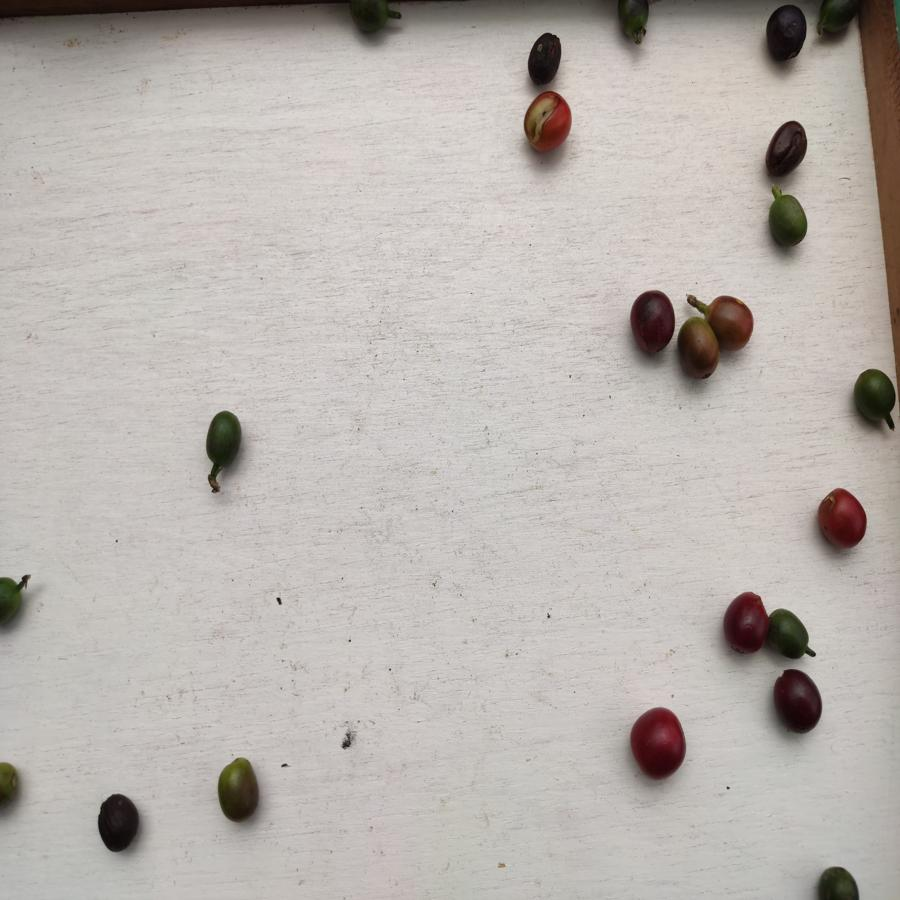Inmaduro: (203, 408, 245, 471), (853, 366, 896, 426), (764, 192, 809, 248), (767, 607, 810, 659), (345, 1, 404, 36), (1, 572, 29, 630), (816, 1, 858, 39), (817, 864, 860, 900), (619, 1, 651, 49)
Maduro: (632, 705, 690, 780), (815, 487, 870, 550), (522, 88, 573, 152)
Pinton: (213, 758, 265, 825), (676, 315, 724, 383), (706, 290, 754, 349)
Sobremaduro: (774, 666, 823, 738), (722, 591, 770, 663), (760, 116, 811, 180), (631, 285, 673, 361), (764, 3, 810, 64), (97, 792, 141, 855), (525, 30, 564, 83)
